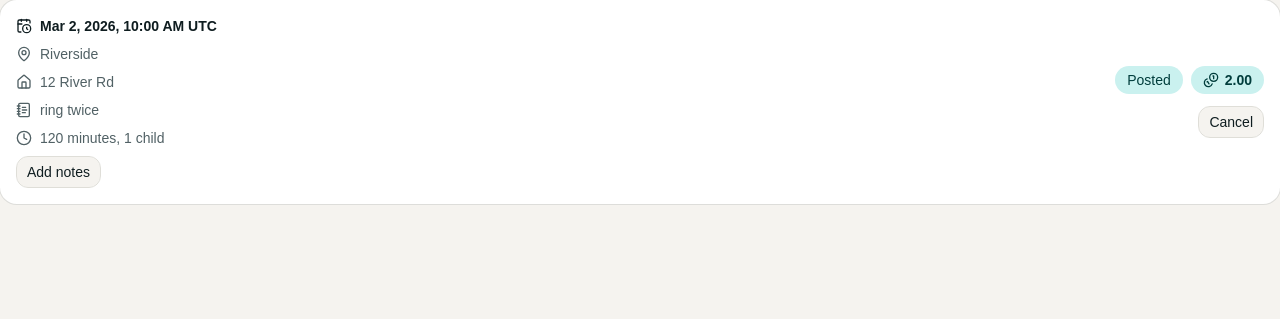
MyRequestsPage › explains a rejected cancel without exposing the server message
Step 1. Click the button with aria-label "cancel the request in riverside" → click(1231, 122), box [1198,106,1264,138]
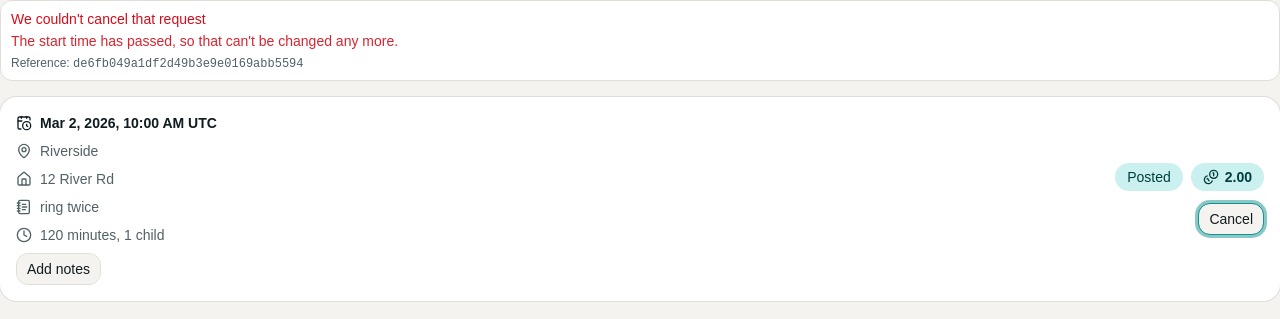
Expected: the message shows "start time has passed", [11,33,398,49]
